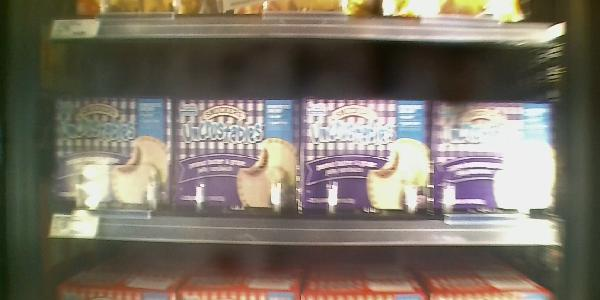icecream: (302, 99, 437, 225), (436, 96, 565, 226), (53, 96, 174, 226), (174, 96, 299, 219)
